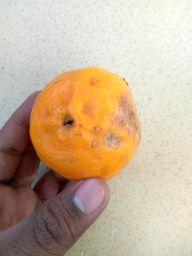Unripe: (28, 68, 143, 179)
